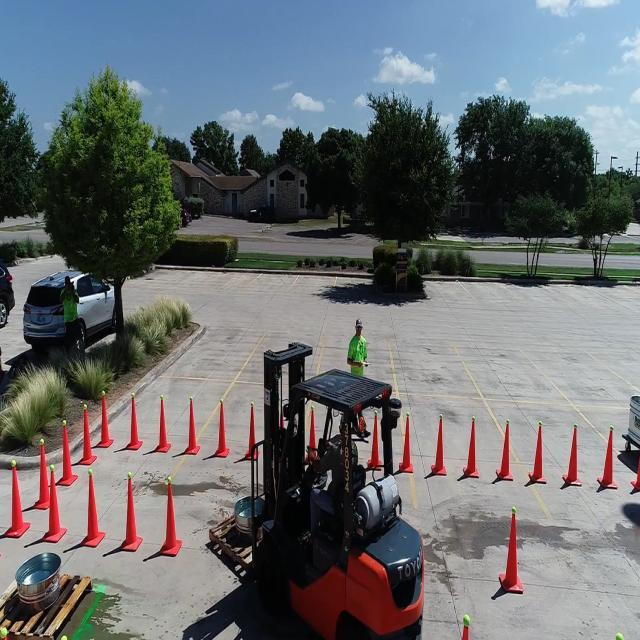forklift: (262, 341, 426, 640)
person: (61, 278, 82, 346), (349, 318, 367, 374)
